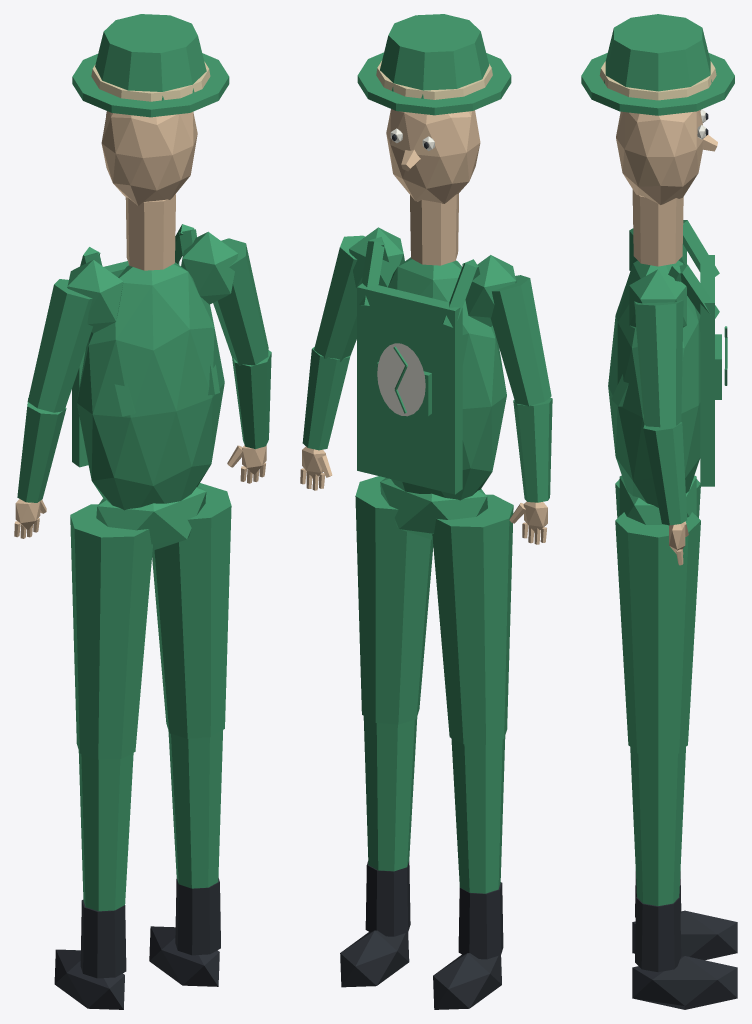
The model's file is OutfitBean.fbx.
3 renders of one model, left to right at view 1: azimuth 30°, elevation 25°; view 2: azimuth 150°, elevation 25°; view 3: azimuth 270°, elevation 25°, orthographic. The views are drawn at different scales.
Visible parts, largest first — view 1: Torso, ThighLeft, ThighRight, CalfLeft, CalfRight, Face, HatCrown, SleeveLeft, SleeveRight, HatBrim, Neck, Waist (+12 smaller); view 2: BibPanel, ThighLeft, ThighRight, Torso, CalfLeft, CalfRight, HatCrown, Face, SleeveLeft, HatBrim, SleeveRight, ForearmSleeveLeft (+14 smaller); view 3: ThighRight, Torso, CalfRight, HatCrown, Face, SleeveRight, FootRight, HatBrim, BibPanel, Neck, ForearmSleeveRight, BootTopRight (+9 smaller).
Part boxes in pixels (<box>): Torso: <box>77,262,224,510</box>; ThighLeft: <box>70,504,152,759</box>; ThighRight: <box>152,483,231,738</box>; CalfLeft: <box>78,750,133,911</box>; CalfRight: <box>168,730,222,888</box>; Face: <box>101,111,197,205</box>; HatCrown: <box>95,14,206,100</box>; SleeveLeft: <box>27,279,92,412</box>; SleeveRight: <box>213,238,268,365</box>; HatBrim: <box>72,53,229,117</box>; Neck: <box>125,194,175,270</box>; Waist: <box>96,485,206,550</box>; BibPanel: <box>357,283,462,494</box>; ThighLeft: <box>432,494,513,744</box>; ThighRight: <box>355,476,433,724</box>; Torso: <box>388,257,506,500</box>; CalfLeft: <box>451,736,505,893</box>; CalfRight: <box>363,716,417,871</box>; HatCrown: <box>380,14,489,98</box>; Face: <box>386,109,480,203</box>; SleeveLeft: <box>490,275,551,406</box>; HatBrim: <box>357,52,511,115</box>; SleeveRight: <box>314,235,364,361</box>; ForearmSleeveLeft: <box>513,397,552,502</box>; ThighRight: <box>615,512,700,756</box>; Torso: <box>608,260,700,507</box>; CalfRight: <box>630,747,685,905</box>; HatCrown: <box>604,14,712,91</box>; Face: <box>616,110,702,204</box>; SleeveRight: <box>634,300,683,427</box>; FootRight: <box>632,956,737,1009</box>; HatBrim: <box>581,53,734,115</box>; BibPanel: <box>700,255,714,486</box>; Neck: <box>632,189,683,266</box>; ForearmSleeveRight: <box>643,422,686,525</box>; BootTopRight: <box>635,897,681,972</box>.
Size of the model in its own units: 0.4727 by 1.75 by 0.2602.
